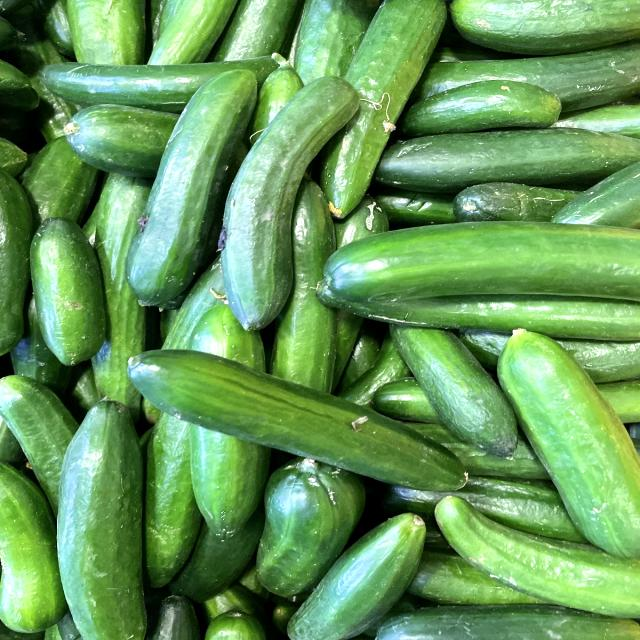cucumber: (120, 334, 481, 502), (205, 63, 387, 334), (120, 53, 277, 315)
